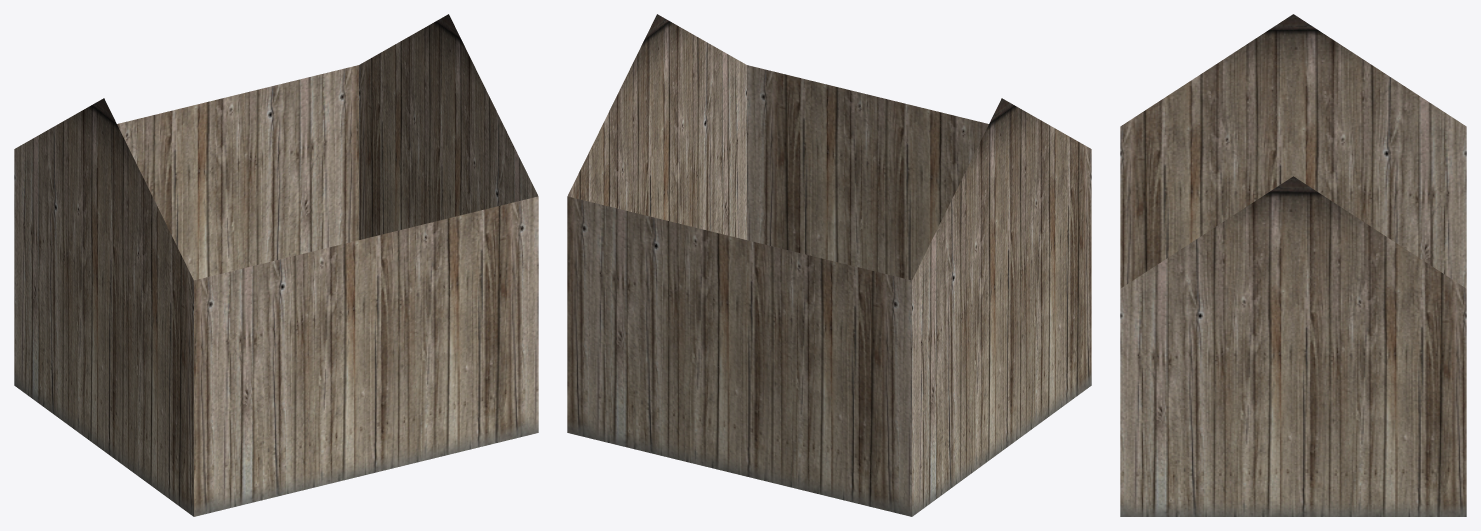
3 renders of one model, left to right at view 1: azimuth 30°, elevation 25°; view 2: azimuth 150°, elevation 25°; view 3: azimuth 270°, elevation 25°, orthographic. The views are drawn at different scales.
Parts seen in each view (by area): view 1: Mesh01; view 2: Mesh01; view 3: Mesh01.
Part boxes in pixels (left/top/right/bottom): Mesh01: left=14, top=14, right=538, bottom=516; Mesh01: left=567, top=14, right=1091, bottom=516; Mesh01: left=1120, top=14, right=1466, bottom=516.
Bounding box in the file's own units: 53.64 × 52.52 × 48.38.
